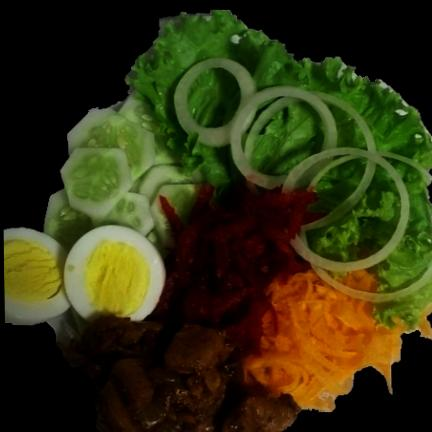beet: (153, 186, 320, 350)
carrot: (242, 270, 403, 411)
cucumber: (43, 99, 201, 253)
egg: (3, 224, 164, 324)
meat: (60, 317, 297, 431)
salad: (126, 10, 431, 199)
